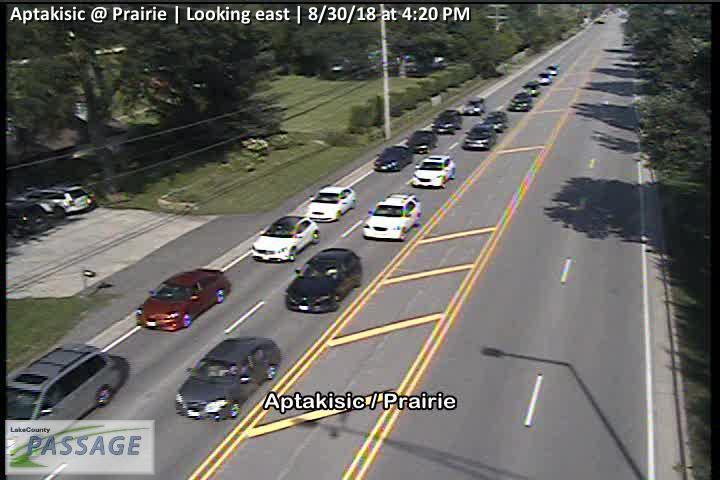SUV: (5, 342, 130, 456)
Sedan: (174, 336, 281, 421), (135, 267, 232, 333), (286, 249, 361, 313), (250, 214, 320, 263), (3, 183, 97, 218), (361, 193, 422, 240), (306, 185, 357, 222), (408, 154, 457, 188), (372, 144, 413, 173), (461, 122, 497, 151), (430, 109, 464, 136), (406, 129, 437, 155)
